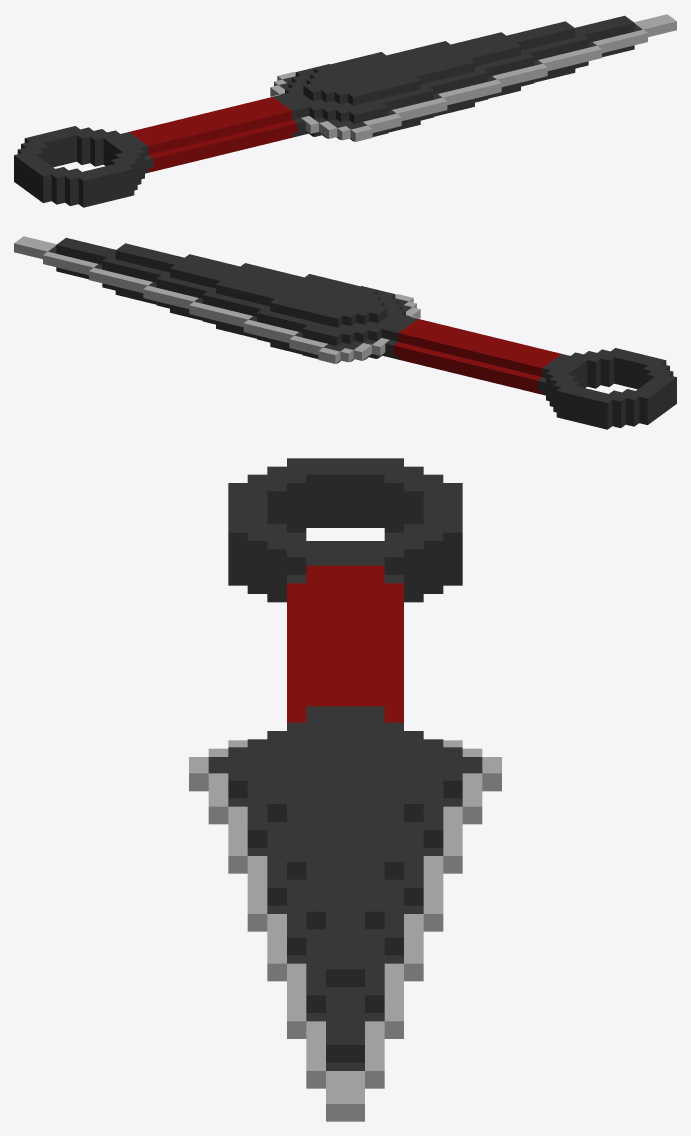
The model's file is weapons-0.obj.
3 views of the same model, one above another, from view 1: azimuth 30°, elevation 25°; view 2: azimuth 150°, elevation 25°; view 3: azimuth 270°, elevation 25° (orthographic). The views are drawn at different scales.
Bounding box in the file's own units: 7.6 × 0.5 × 1.6.
Materials: 1 (1 with a texture image).
